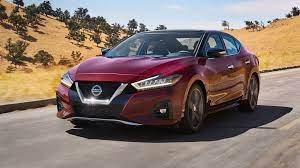Nissan: (58, 27, 258, 127)
